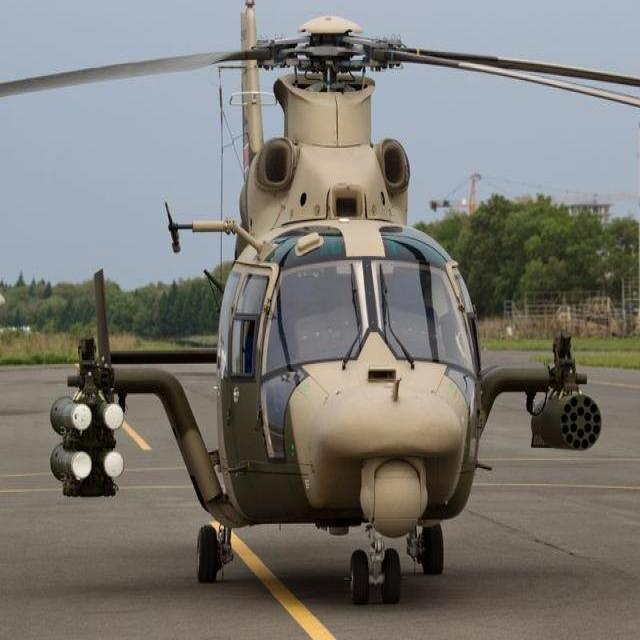MIL_HELO: (0, 8, 640, 604)
